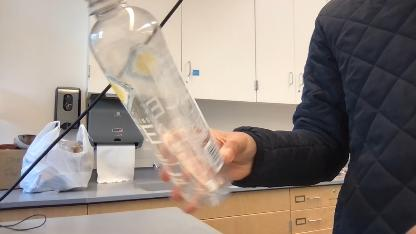Plastic Bottle: (87, 0, 237, 210)
